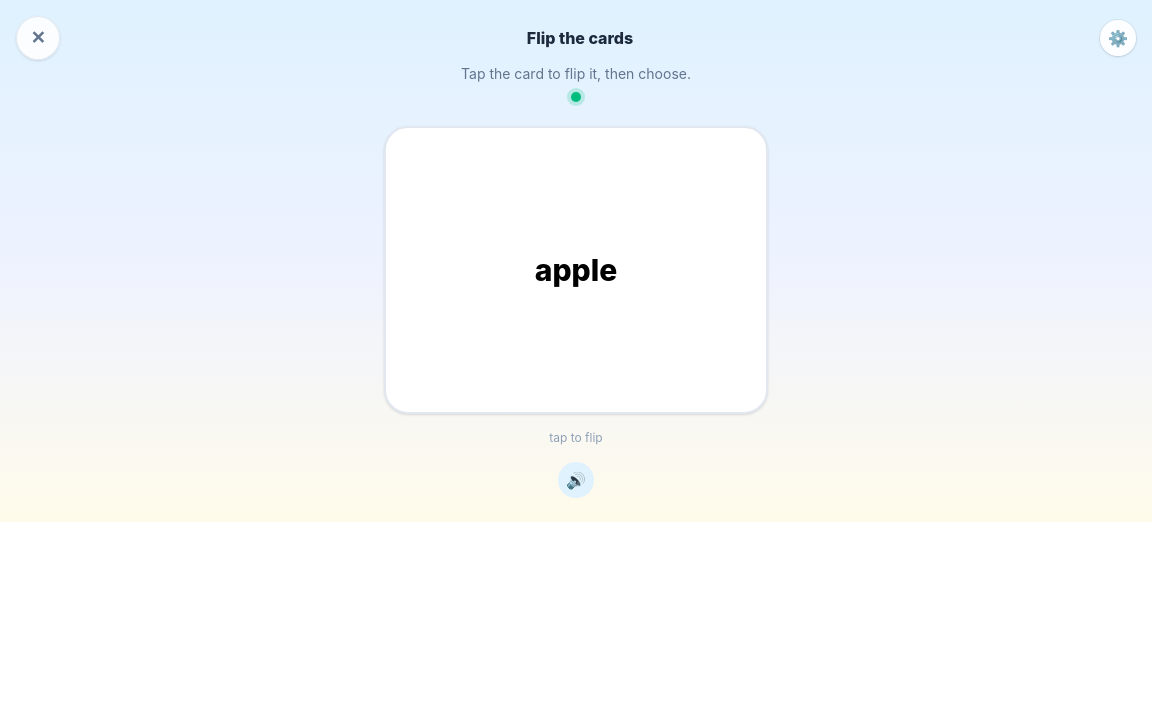
FlashcardScreen › shows the back image with caption after flipping
Click the button with aria-label "flip card": (576, 270) [384,126,768,414]
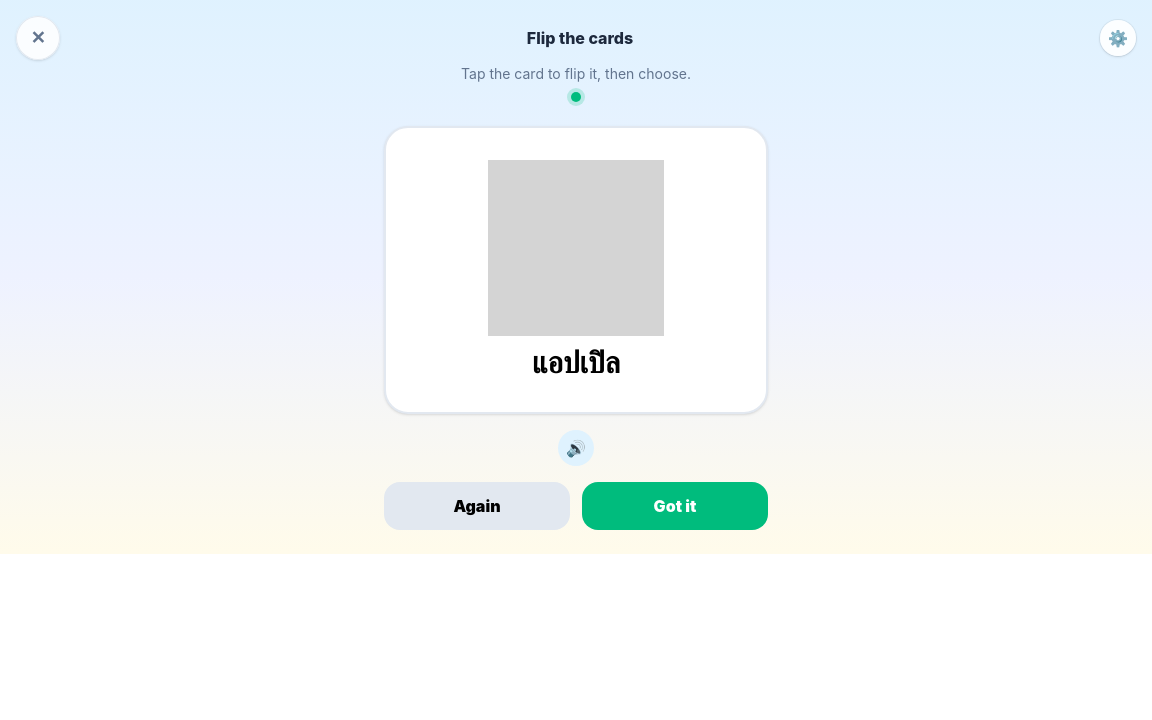
Check: the text "แอปเปิล" is shown, box [532,344,620,380]
